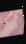plaque psoriasis: (0, 6, 26, 37), (0, 9, 12, 20), (0, 18, 9, 30), (0, 33, 8, 38)
